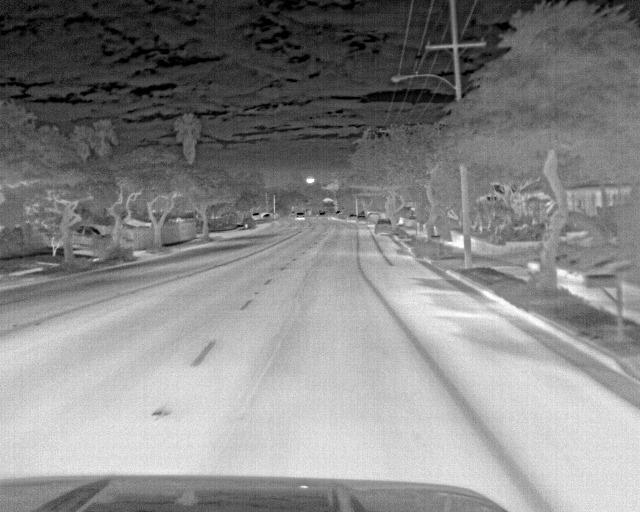car: (68, 223, 103, 250), (373, 220, 393, 236), (345, 211, 359, 224), (293, 210, 308, 222), (355, 214, 370, 226)
